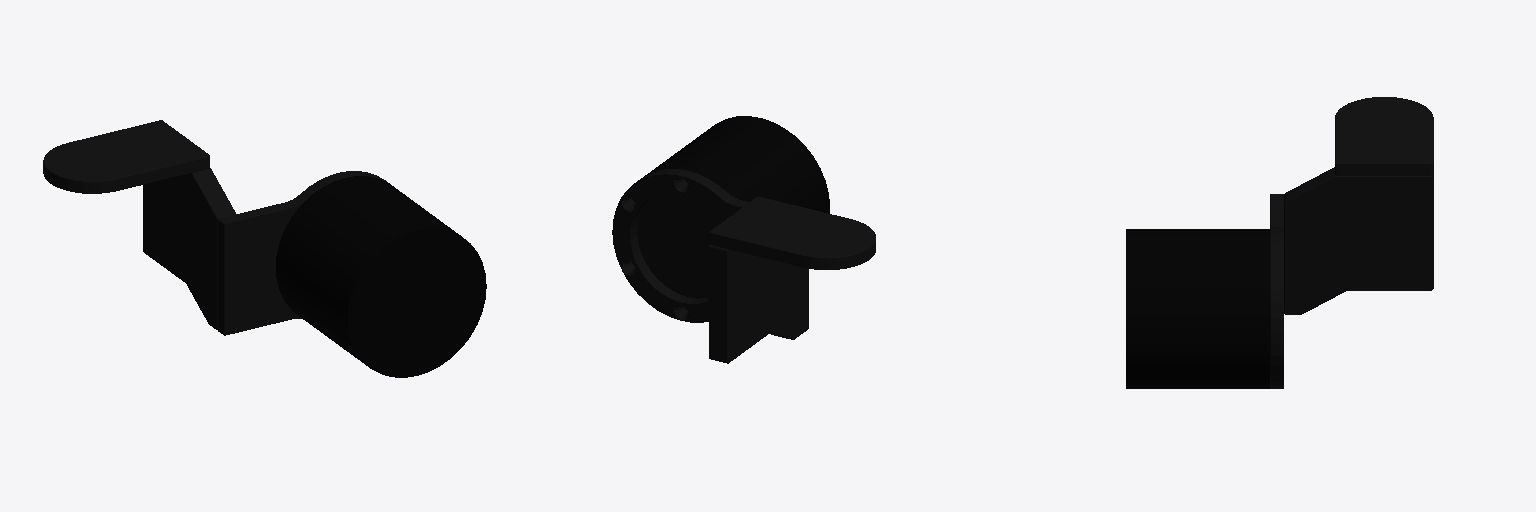
3 views of the same model, side by side, from view 1: azimuth 30°, elevation 25°; view 2: azimuth 150°, elevation 25°; view 3: azimuth 270°, elevation 25° (orthographic).
Visible parts, largest first — view 1: arm_link4; view 2: arm_link4; view 3: arm_link4.
Part boxes in pixels (x1,y1,x2,y2): arm_link4: (43, 120, 486, 377); arm_link4: (612, 116, 875, 363); arm_link4: (1126, 97, 1433, 388).
Bounding box in the file's own units: 0.126 × 0.066 × 0.109.